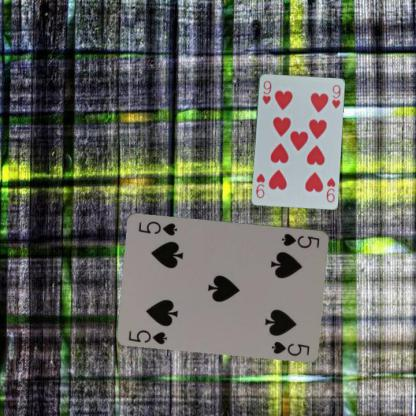5s: (126, 327, 169, 346), (279, 231, 321, 249)
9h: (259, 78, 273, 106), (324, 175, 336, 203)
